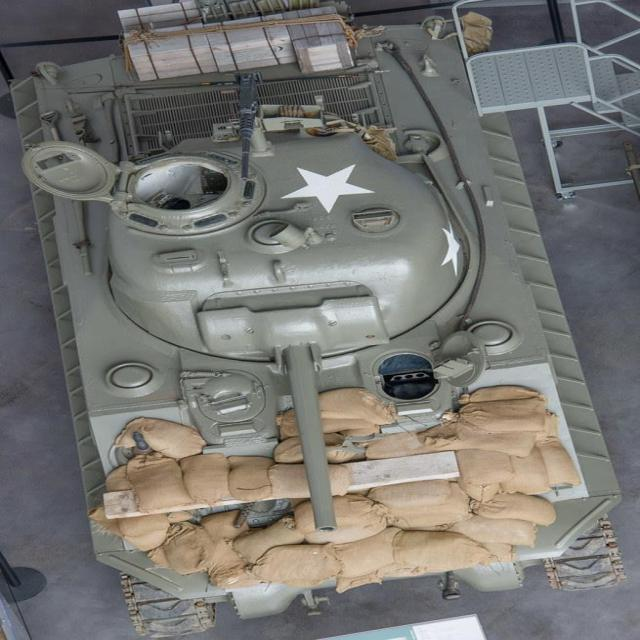MIL_MBT: (10, 8, 608, 583)
